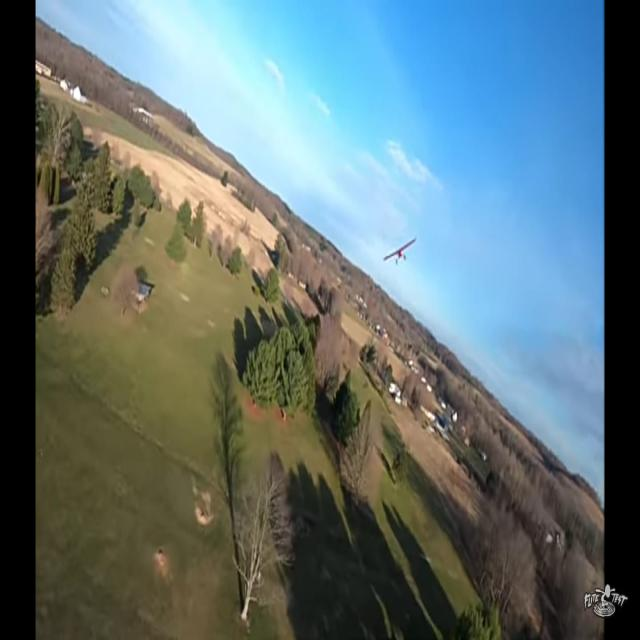iha: (382, 234, 418, 266)
